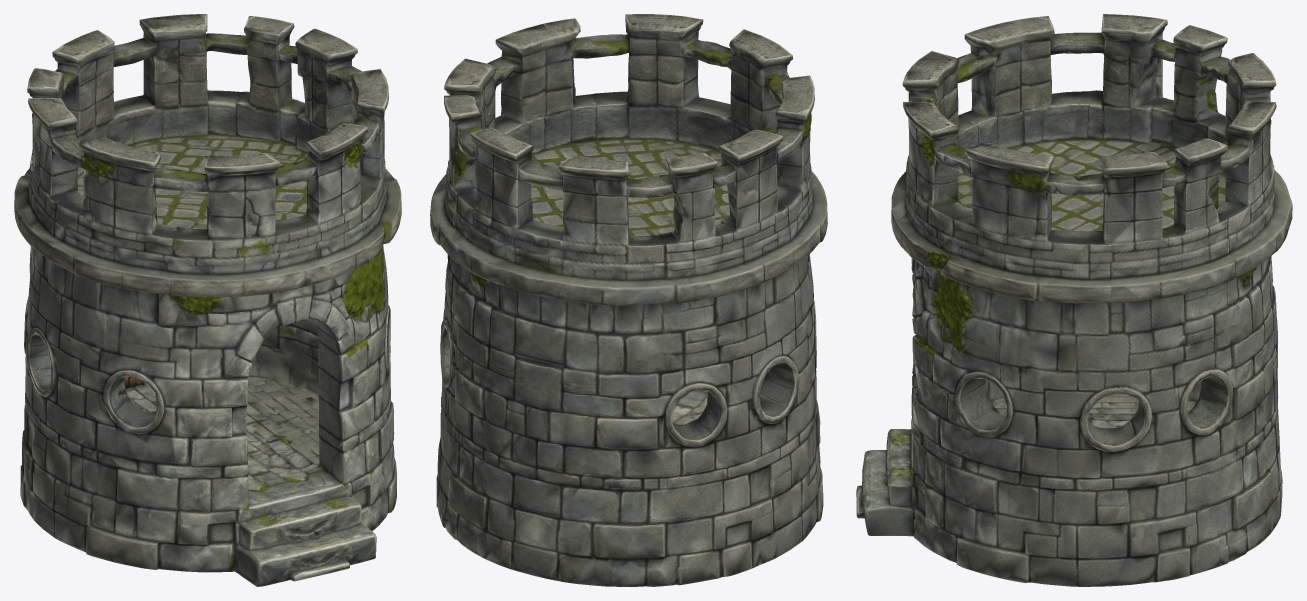
The model's file is ruined_tower.glb.
3 renders of one model, left to right at view 1: azimuth 30°, elevation 25°; view 2: azimuth 150°, elevation 25°; view 3: azimuth 270°, elevation 25°, orthographic. The views are drawn at different scales.
Bounding box in the file's own units: 1.64 × 1.9 × 1.81.
Materials: 1 (1 with a texture image).
